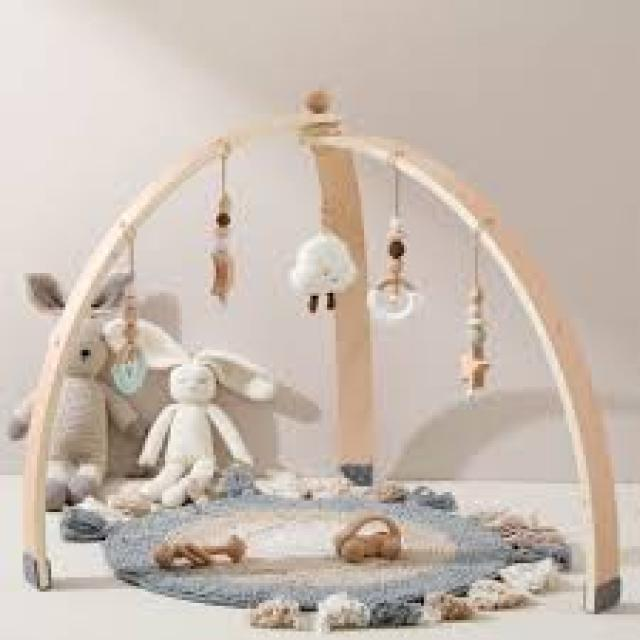soft-toy: (139, 321, 272, 507), (47, 275, 130, 512), (26, 274, 70, 327)
